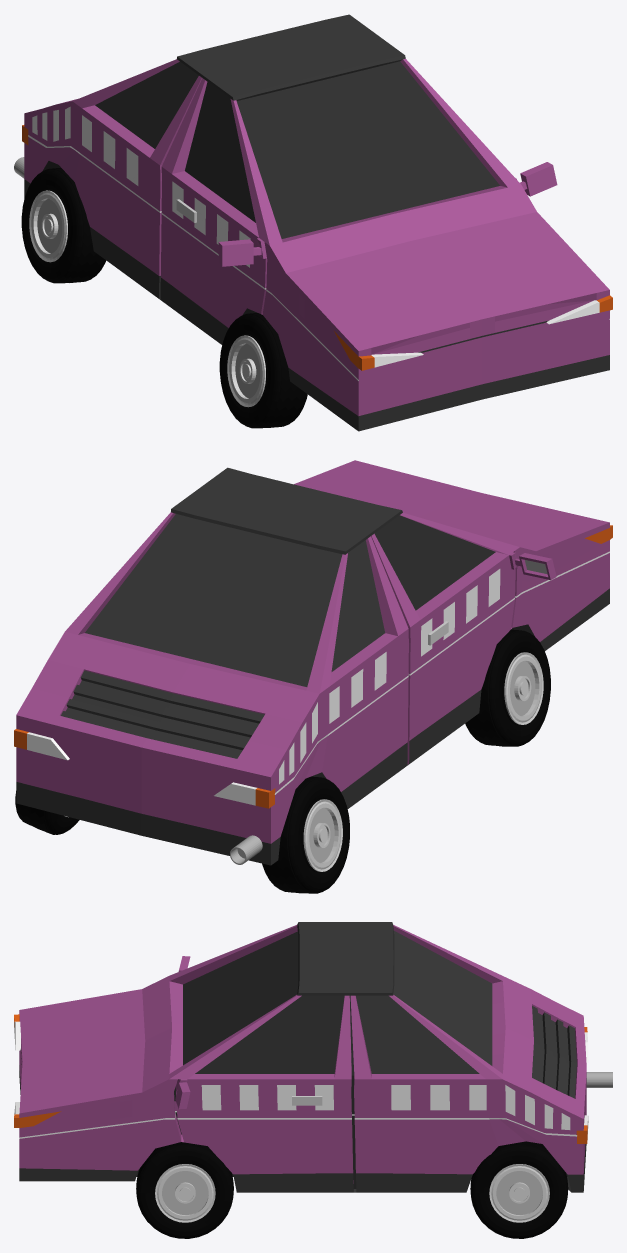
File: CR-CAR-14.fbx
3 views of the same model, one above another, from view 1: azimuth 30°, elevation 25°; view 2: azimuth 150°, elevation 25°; view 3: azimuth 270°, elevation 25° (orthographic). The views are drawn at different scales.
Visible parts, largest first — view 1: BODY, WHEEL.001, WHEEL.004; view 2: BODY, WHEEL.004, WHEEL.001, WHEEL.002, SHACMAN; view 3: BODY, WHEEL.003, WHEEL.002.
Boxes of the visible parts, x1,y1,x2,y2 form: BODY: (22, 14, 612, 431); WHEEL.001: (219, 313, 307, 428); WHEEL.004: (21, 167, 106, 283); BODY: (14, 460, 612, 865); WHEEL.004: (262, 776, 349, 893); WHEEL.001: (465, 629, 550, 746); WHEEL.002: (15, 791, 79, 834); SHACMAN: (230, 835, 262, 864); BODY: (14, 922, 588, 1192); WHEEL.003: (136, 1142, 233, 1238); WHEEL.002: (470, 1141, 568, 1238).
Bounding box in the file's own units: 131 × 100 × 240.
